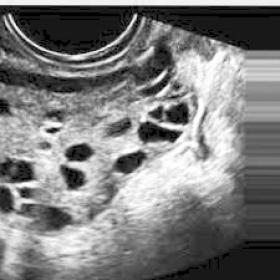-: (7, 160, 32, 181), (63, 165, 82, 191), (116, 159, 144, 176), (0, 186, 11, 216), (24, 204, 44, 220), (48, 209, 67, 225), (106, 120, 133, 130), (169, 80, 185, 94), (0, 99, 13, 110), (23, 186, 31, 197)
PCOS: (145, 123, 184, 150), (68, 140, 91, 166), (172, 107, 196, 126), (154, 98, 167, 123)
